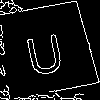U: (21, 24, 68, 77)
